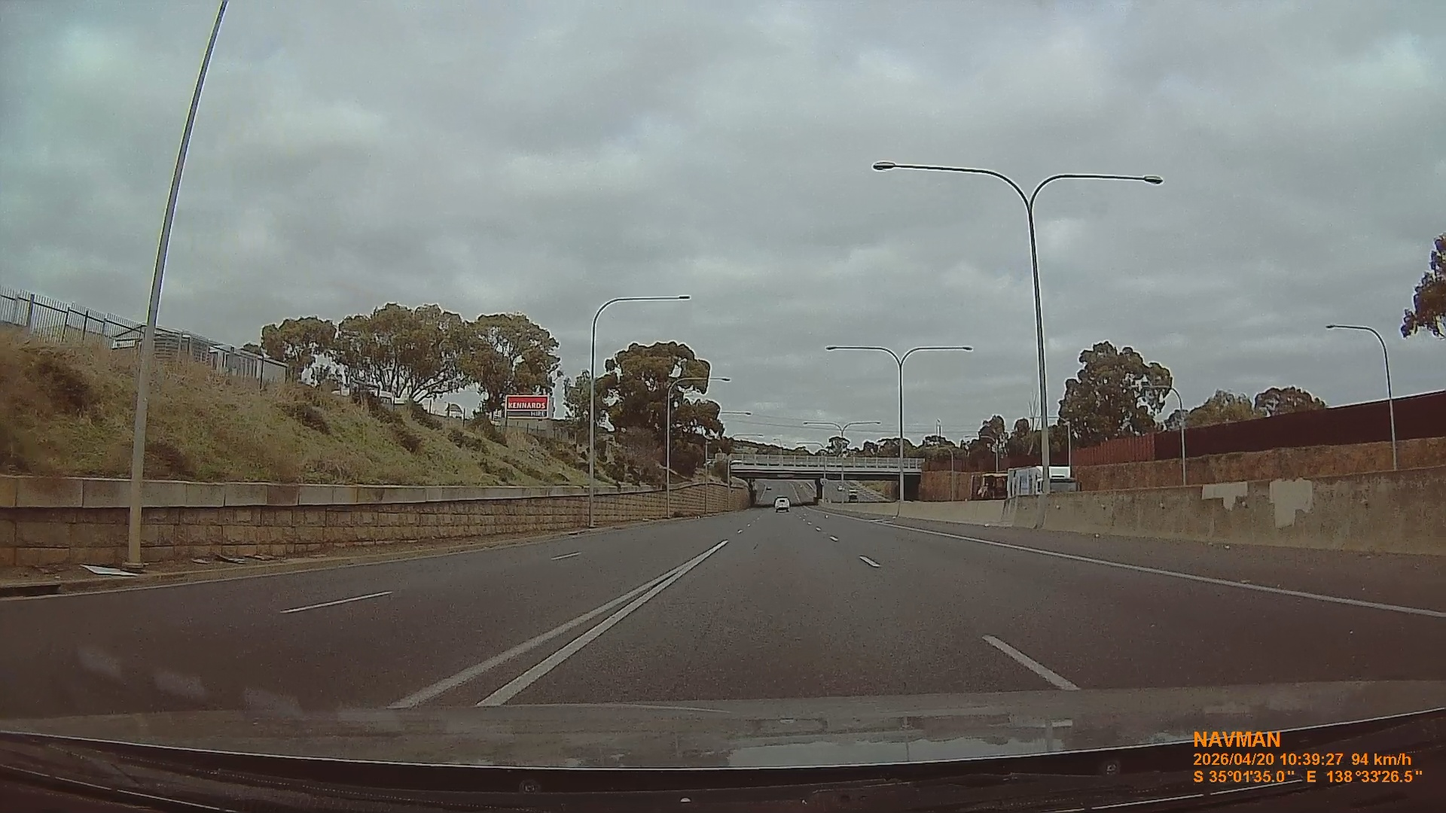fences: (1019, 397, 1414, 494)
road barriers: (2, 475, 710, 571), (1043, 467, 1445, 556)
